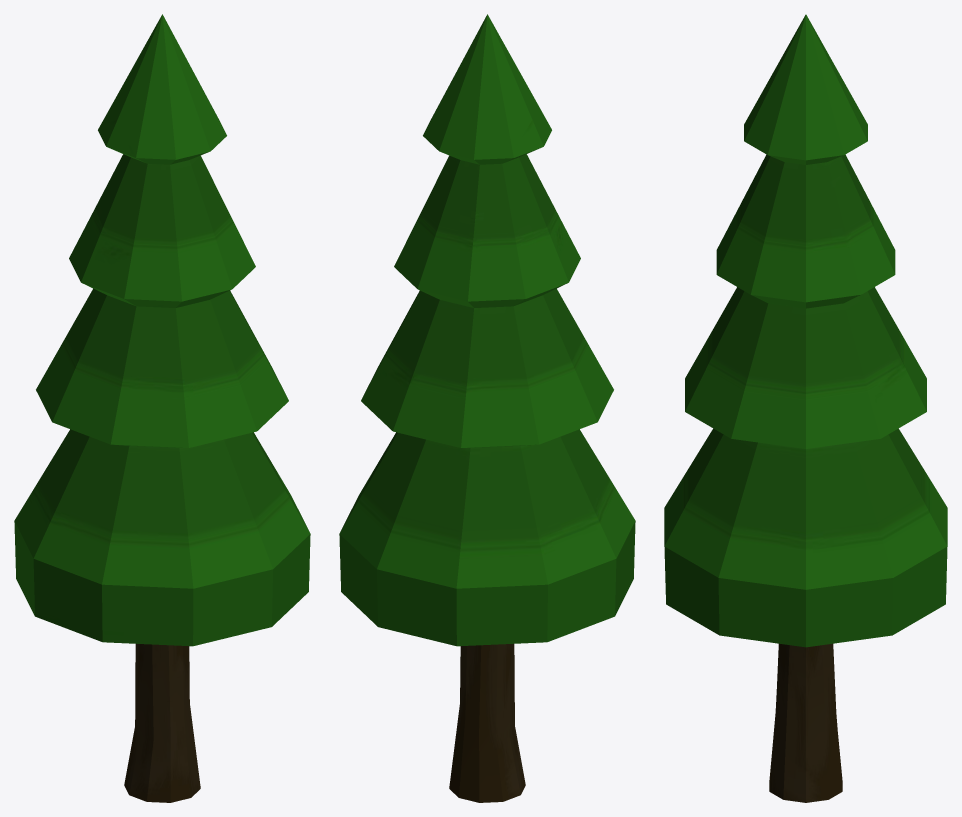
File: Tree3_Asset.fbx
The picture shows the model from 3 angles, left to right: view 1: azimuth 30°, elevation 25°; view 2: azimuth 150°, elevation 25°; view 3: azimuth 270°, elevation 25°; orthographic projection.
Visible parts, largest first — view 1: Tree3_Asset; view 2: Tree3_Asset; view 3: Tree3_Asset.
Boxes of the visible parts, left/top/right/bottom form: Tree3_Asset: left=14, top=14, right=310, bottom=802; Tree3_Asset: left=339, top=14, right=635, bottom=802; Tree3_Asset: left=664, top=14, right=947, bottom=802.
Size of the model in its own units: 3.89 by 11.15 by 3.7.
